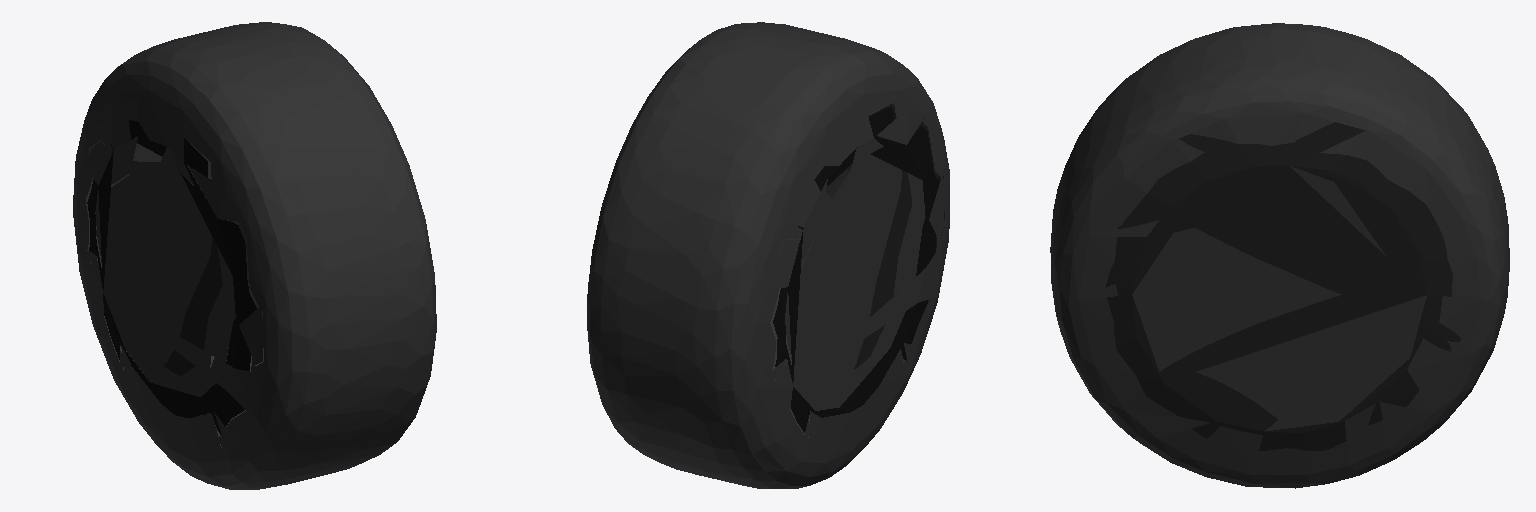
3 renders of one model, left to right at view 1: azimuth 30°, elevation 25°; view 2: azimuth 150°, elevation 25°; view 3: azimuth 270°, elevation 25°, orthographic.
Parts seen in each view (by area): view 1: FL_CrownVic.Wheel.Ft.L_Cylinder; view 2: FL_CrownVic.Wheel.Ft.L_Cylinder; view 3: FL_CrownVic.Wheel.Ft.L_Cylinder.
Part boxes in pixels (left/top/right/bottom): FL_CrownVic.Wheel.Ft.L_Cylinder: left=73, top=22, right=436, bottom=489; FL_CrownVic.Wheel.Ft.L_Cylinder: left=587, top=22, right=949, bottom=488; FL_CrownVic.Wheel.Ft.L_Cylinder: left=1050, top=23, right=1509, bottom=488.
Bounding box in the file's own units: 0.3551 × 0.7933 × 0.7941.
Materials: 1 (1 with a texture image).